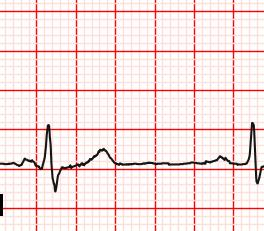LVH: (79, 145, 131, 166)
ST Depression: (40, 162, 69, 197)
